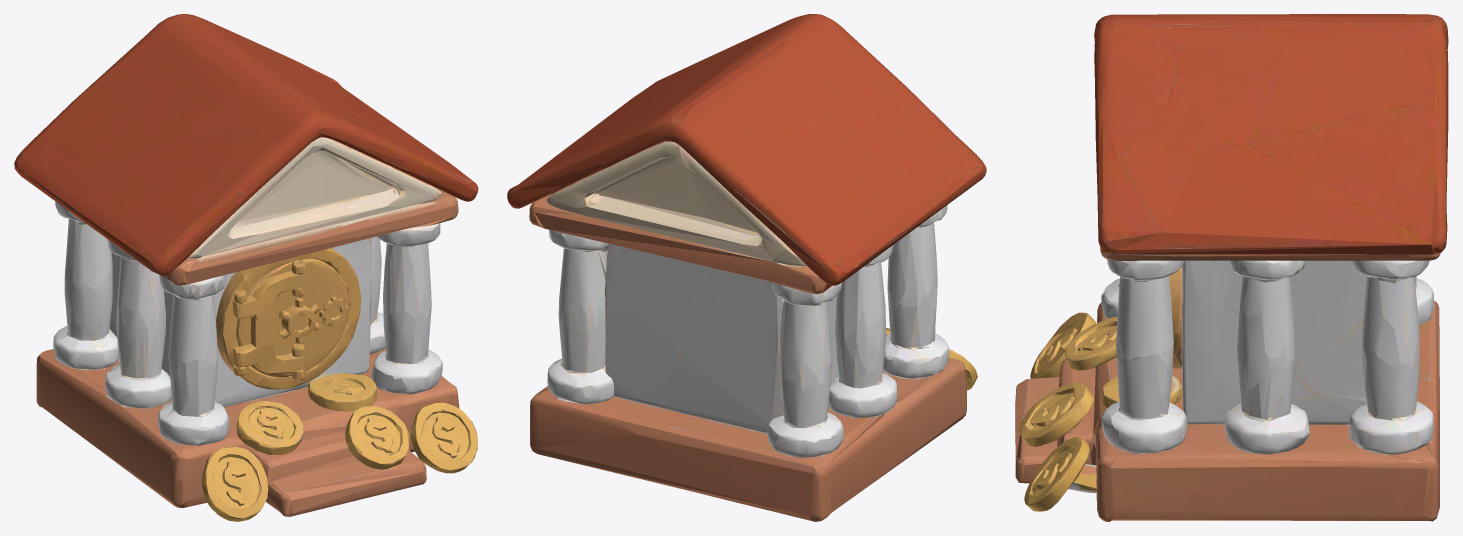
The model's file is geldbank.glb.
3 views of the same model, side by side, from view 1: azimuth 30°, elevation 25°; view 2: azimuth 150°, elevation 25°; view 3: azimuth 270°, elevation 25° (orthographic). The views are drawn at different scales.
Visible parts, largest first — view 1: Mesh_0; view 2: Mesh_0; view 3: Mesh_0.
Part boxes in pixels (left/top/right/bottom): Mesh_0: left=14, top=14, right=478, bottom=521; Mesh_0: left=507, top=14, right=986, bottom=521; Mesh_0: left=1015, top=14, right=1448, bottom=521.
Bounding box in the file's own units: 1.81 × 1.9 × 1.75.
Materials: 1 (1 with a texture image).
